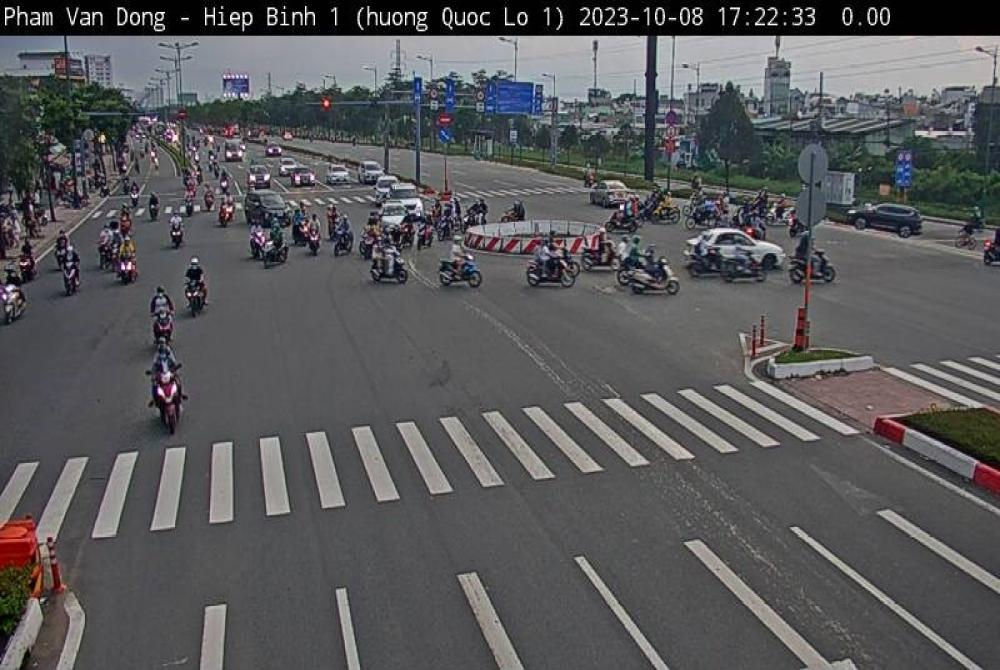car: (670, 210, 786, 292), (240, 180, 302, 232), (360, 198, 420, 242), (590, 172, 639, 210), (242, 156, 272, 196), (354, 152, 388, 185)
motorbike: (108, 359, 224, 447), (612, 255, 688, 303), (430, 252, 500, 292)
